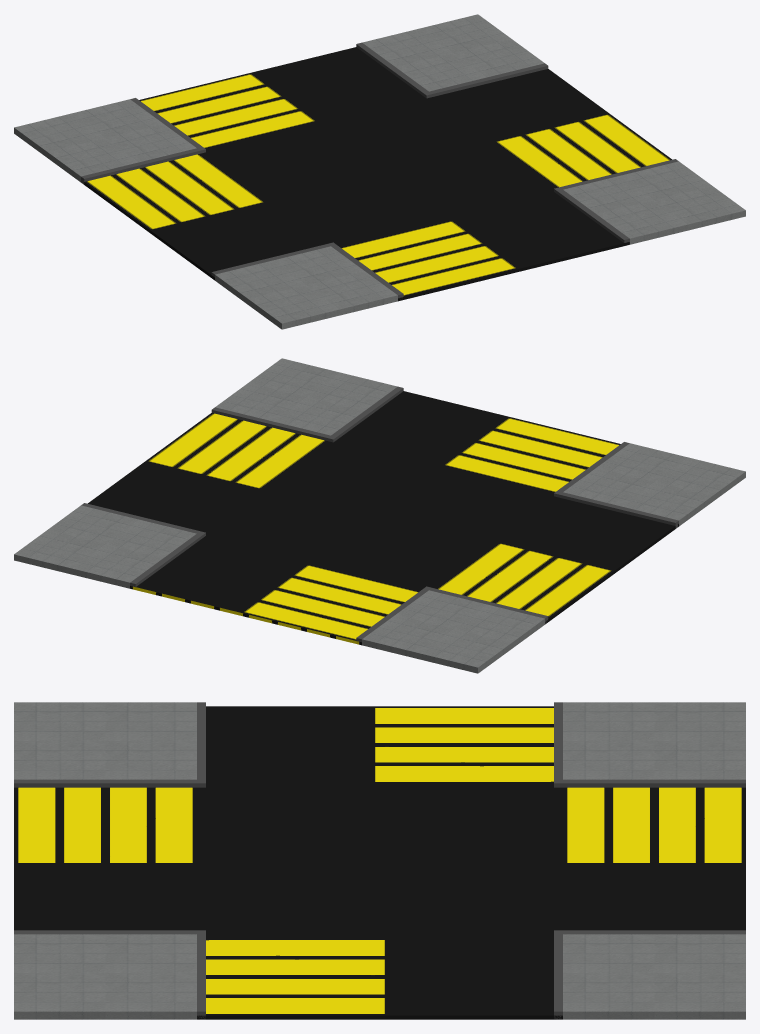
Rendered from RoadIntersection_2x2.fbx.
3 views of the same model, one above another, from view 1: azimuth 30°, elevation 25°; view 2: azimuth 150°, elevation 25°; view 3: azimuth 270°, elevation 25° (orthographic). The views are drawn at different scales.
Visible parts, largest first — view 1: RoadIntersection 2x2.001; view 2: RoadIntersection 2x2.001; view 3: RoadIntersection 2x2.001.
Boxes of the visible parts, x1=… form: RoadIntersection 2x2.001: x1=14, y1=14, x2=745, y2=329; RoadIntersection 2x2.001: x1=14, y1=358, x2=745, y2=673; RoadIntersection 2x2.001: x1=14, y1=702, x2=745, y2=1019.
Bounding box in the file's own units: 16 × 0.2 × 16.
